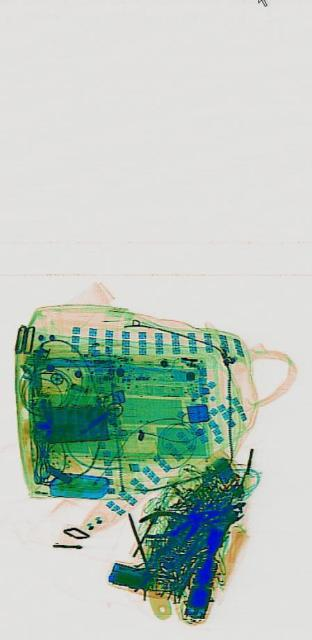Pliers: (136, 501, 216, 539)
